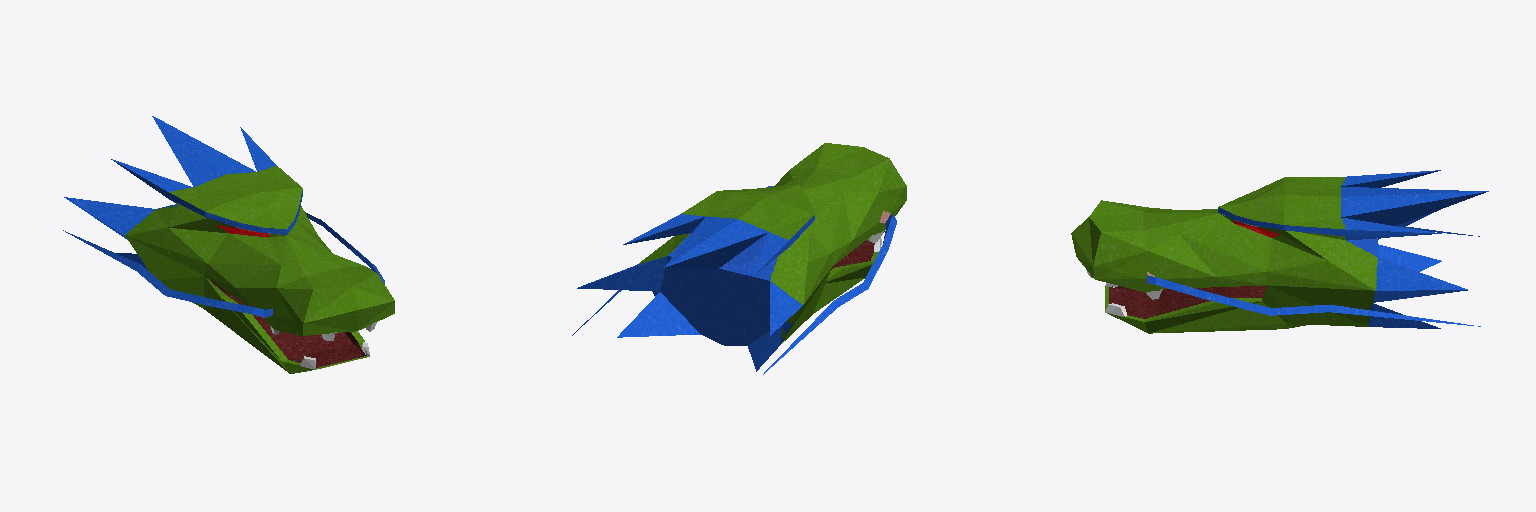
The picture shows the model from 3 angles: view 1: azimuth 30°, elevation 25°; view 2: azimuth 150°, elevation 25°; view 3: azimuth 270°, elevation 25°; orthographic projection.
Visible parts, largest first — view 1: habChino; view 2: habChino; view 3: habChino.
Part boxes in pixels (bbox=[...]): habChino: bbox=[63, 116, 394, 373]; habChino: bbox=[572, 143, 906, 374]; habChino: bbox=[1071, 170, 1488, 333].
Bounding box in the file's own units: 13.48 × 8.52 × 25.02.
1 materials, 1 textured.